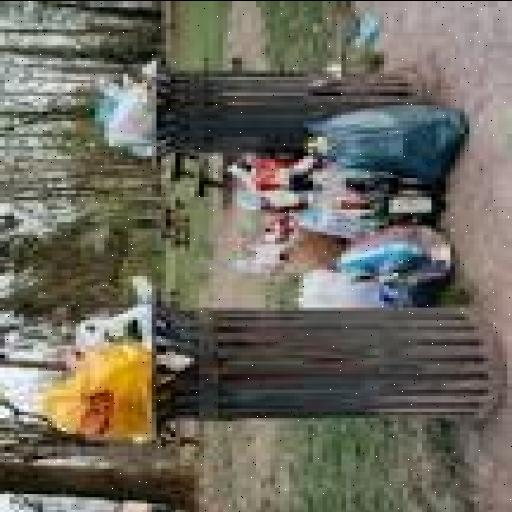poubelle_pleine: (23, 290, 489, 452), (57, 32, 473, 174)
